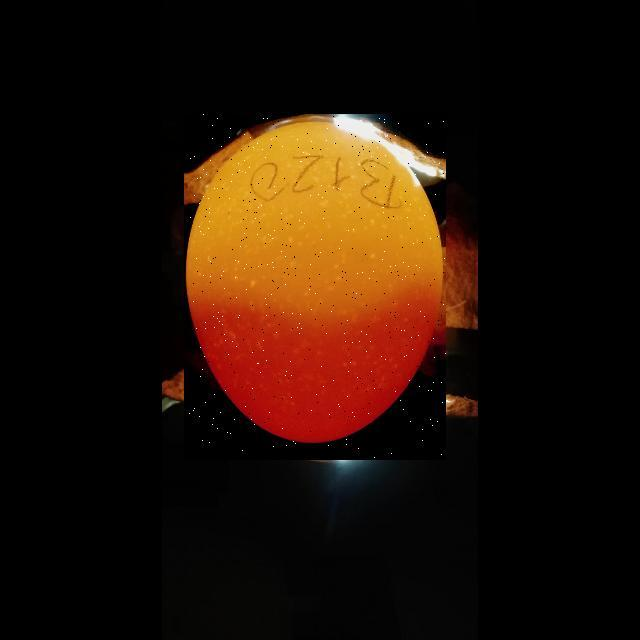Fertile: (184, 114, 446, 460)
